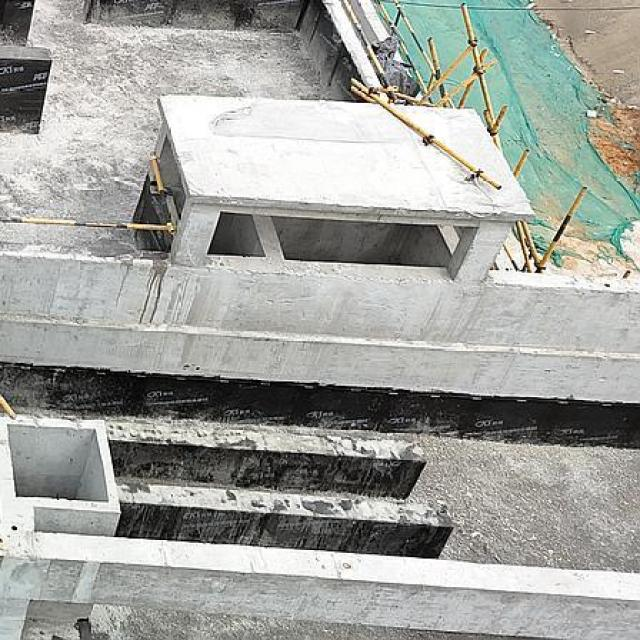edge_guardrail: (0, 153, 176, 236), (374, 0, 436, 94), (342, 0, 398, 100)
